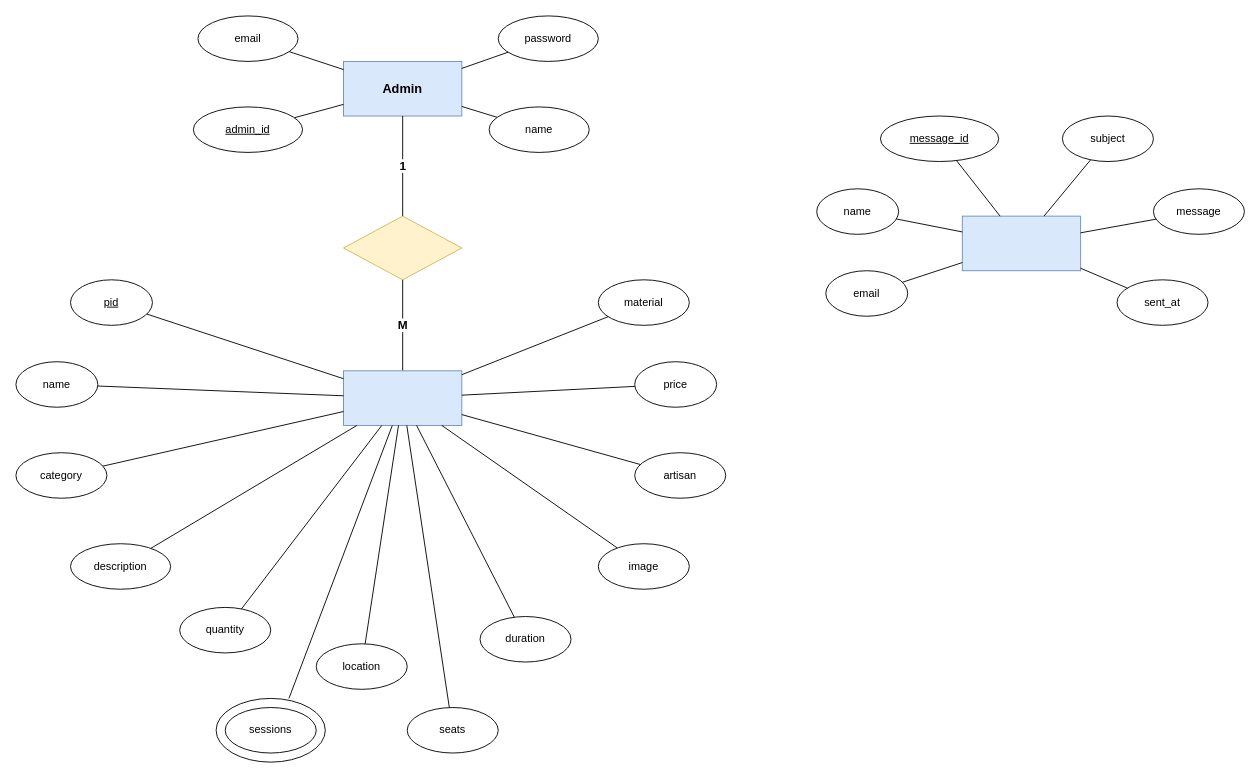
This 1260x778 diagram has some shape labels left out. The centre of each missing label's shape, as x and y in pixels:
Manages: pixel 402 247
Messages: pixel 1021 243
Product: pixel 402 397
